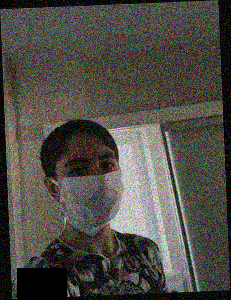with_mask: (56, 148, 124, 237)
